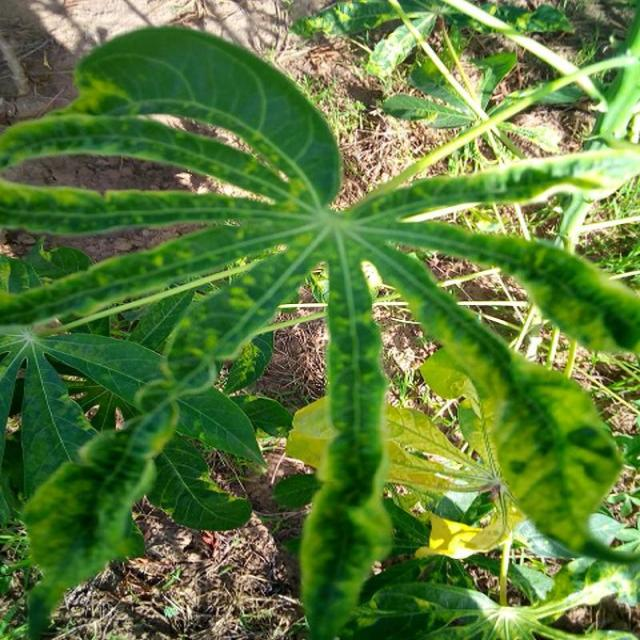cassava leaf: (2, 21, 639, 637)
